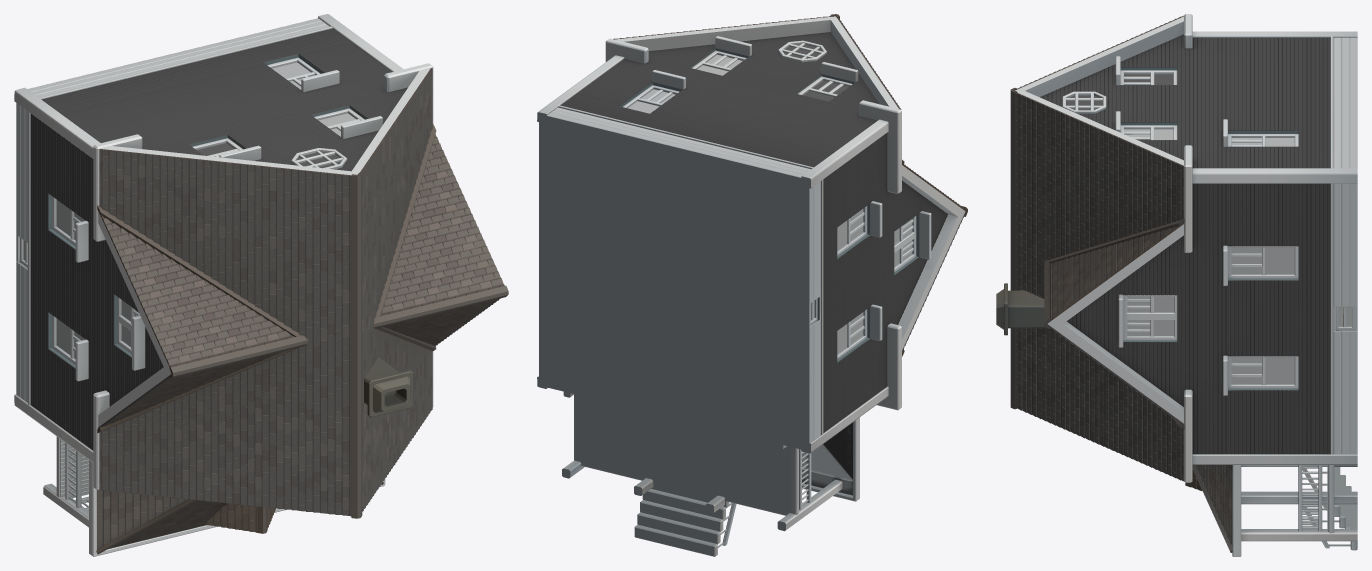
The model's file is Home.obj.
3 views of the same model, side by side, from view 1: azimuth 30°, elevation 25°; view 2: azimuth 150°, elevation 25°; view 3: azimuth 270°, elevation 25° (orthographic). The views are drawn at different scales.
Visible parts, largest first — view 1: Object.1; view 2: Object.1; view 3: Object.1.
Boxes of the visible parts, <box> form: Object.1: <box>14,14,508,556</box>; Object.1: <box>537,14,967,556</box>; Object.1: <box>996,14,1357,556</box>.
Bounding box in the file's own units: 605 × 816 × 606.
Materials: 1 (1 with a texture image).
